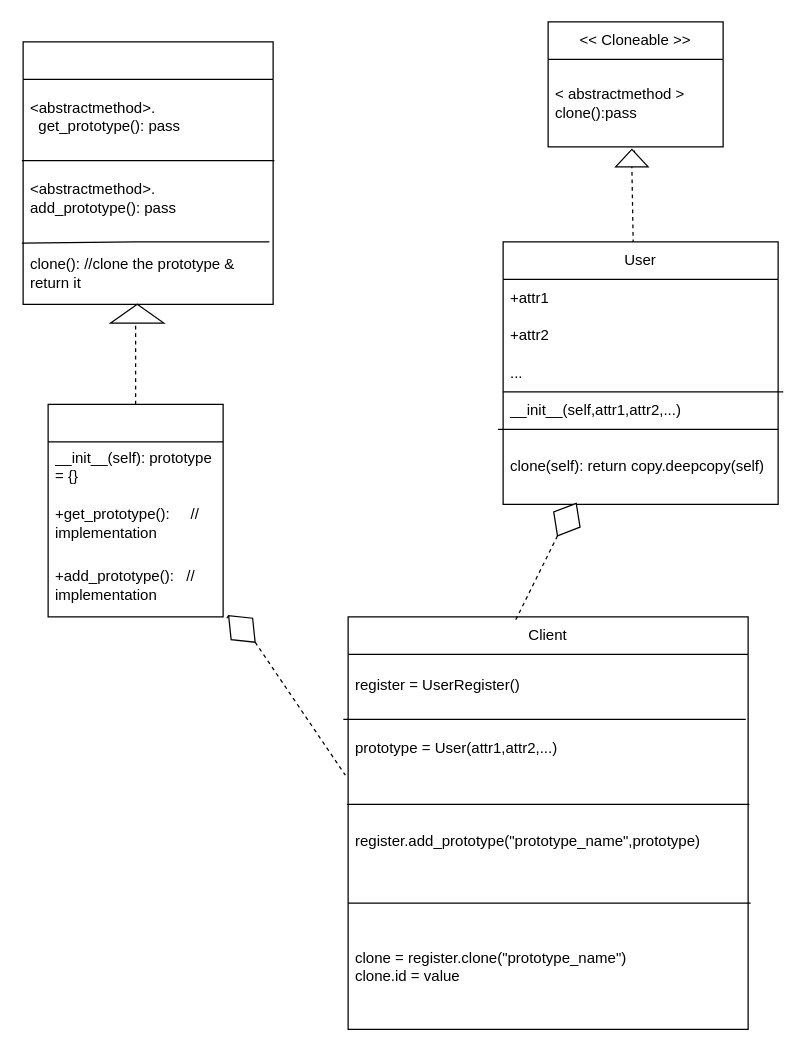
The diagram is 808 pixels wide and 1051 high, and some of its shapes have lost their labels. Here are the shapes that lost their labels. From the top down, the box of each, then its label:
(22, 41, 273, 304): << Register >>
(47, 403, 223, 617): UserRegister
